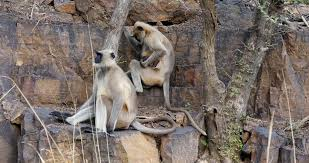langur: (61, 48, 176, 138), (123, 21, 181, 110)
